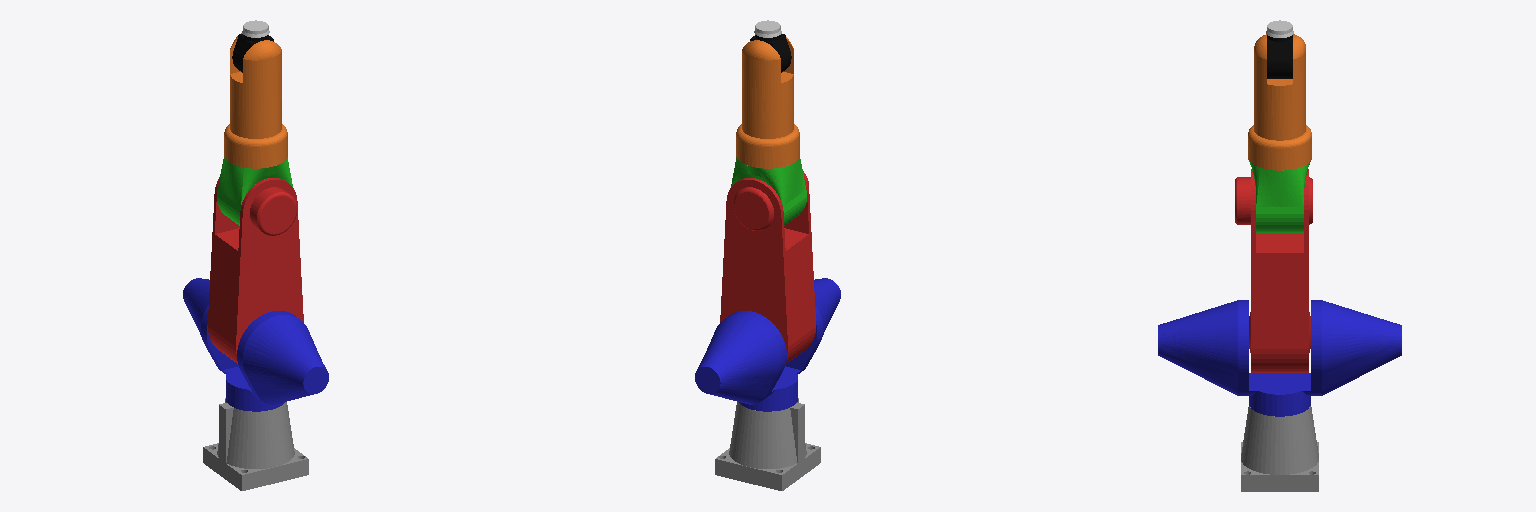
The robot description file, URDF, robot "crs_a465":
<?xml version='1.0' encoding='utf-8'?>
<robot name="crs_a465">

  <link name="world"/>

  <joint name="world_joint" type="fixed">
    <parent link="world" />
    <child link="base_link" />
    <origin xyz="0 0 0" />
  </joint>
  
  <link name="base_link">
    <visual>
      <geometry>
      <mesh filename="meshes/base_estatica.stl" scale="1 1 1"/>
      </geometry>
      <material name="grey"><color rgba="0.6 0.6 0.6 1" /></material>
      <origin xyz="0 0 0" rpy="1.57079632679 0 0"/>
    </visual>
    <collision>
      <geometry>
      <mesh filename="meshes/base_estatica.stl" scale="1 1 1"/>
      </geometry>
      <origin xyz="0 0 0" rpy="1.57079632679 0 0"/>
    </collision>
  </link>

  <joint name="joint1" type="revolute">
    <parent link="base_link" />
    <child link="link1" />
    <origin xyz="0 0 0" rpy="0 0 0"/>
    <axis xyz="0 0 1" /> 
    <limit lower="-3.054" upper="3.054" effort="50" velocity="2" />
  </joint>

  <link name="link1">
    <visual>
      <geometry>
        <mesh filename="meshes/codos_por_fuera.stl" scale="1 1 1"/>
      </geometry>
      <origin xyz="0 0 0.1651" rpy="1.57079632679 0 0"/>
      <material name="blue"><color rgba="0.2 0.2 0.8 1" /></material>
    </visual>
    <collision>
      <geometry>
        <mesh filename="meshes/codos_por_fuera.stl" scale="1 1 1"/>
      </geometry>
      <origin xyz="0 0 0.1651" rpy="1.57079632679 0 0"/>
    </collision>
  </link>

  <joint name="joint2" type="revolute">
    <parent link="link1" />
    <child link="link2" />
    <origin xyz="0 0 0.33" rpy="-1.57079632679 0 0"/>
    <axis xyz="0 0 -1" /> 
    <limit lower="-1.571" upper="1.571" effort="50" velocity="2" />
  </joint>

  <link name="link2">
    <visual>
      <geometry>
      <mesh filename="meshes/brazo1.stl" scale="1 1 1"/>
      </geometry>
      <material name="red"><color rgba="0.8 0.2 0.2 1" /></material>
      <origin xyz="0 0 -0.065" rpy="1.57079632679 0 -1.57079632679"/>
    </visual>
    <collision>
      <geometry>
      <mesh filename="meshes/brazo1.stl" scale="1 1 1"/>
      </geometry>
      <origin xyz="0 0 -0.065" rpy="1.57079632679 0 -1.57079632679"/>
    </collision>
  </link>

  <joint name="joint3" type="revolute">
    <parent link="link2" />
    <child link="link3" />
    <origin xyz="0 -0.305 0" />
    <axis xyz="0 0 -1" /> 
    <limit lower="-1.919" upper="1.919" effort="50" velocity="2" />
  </joint>

  <link name="link3">
    <visual>
      <geometry>
      <mesh filename="meshes/anexo_brazo2.stl" scale="1 1 1"/>
      </geometry>
      <origin xyz="0 0 -0.05" rpy="1.57079632679 0 -1.57079632679"/>
      <material name="green"><color rgba="0.2 0.8 0.2 1" /></material>
    </visual>
    <collision>
      <geometry>
      <mesh filename="meshes/anexo_brazo2.stl" scale="1 1 1"/>
      </geometry>
      <origin xyz="0 0 -0.05" rpy="1.57079632679 0 -1.57079632679"/>
    </collision>
  </link>

  <joint name="joint4" type="revolute">
    <parent link="link3" />
    <child link="link4" />
    <origin xyz="0 0 0" rpy="1.57079632679 0 0"/>
    <axis xyz="0 0 1" /> 
     <!-- todo find the issuse -->
    <limit lower="-3.142" upper="3.142" effort="30" velocity="3" />
  </joint>


  <link name="link4">
    <visual>
      <geometry>
      <mesh filename="meshes/brazo2_sin_herramienta.stl" scale="1 1 1"/>
      </geometry>
      <origin xyz="0 0 0.1016" rpy="1.57079632679 0 0"/>
      <material name="orange"><color rgba="0.9 0.5 0.2 1" /></material>
    </visual>
    <collision>
      <geometry>
      <mesh filename="meshes/brazo2_sin_herramienta.stl" scale="1 1 1"/>
      </geometry>
      <origin xyz="0 0 0.1016" rpy="1.57079632679 0 0"/>
    </collision>
  </link>

  <joint name="joint5" type="revolute">
    <parent link="link4" />
    <child link="tool_link" />
    <origin xyz="0 0 0.33" rpy="-1.57079632679 0 0"/>
    <axis xyz="0 0 -1" /> 
    <!-- todo find the issuse -->
    <limit lower="-1.833" upper="1.833" effort="20" velocity="3" />
  </joint>

  <link name="tool_link">
    <visual>
      <geometry>
      <mesh filename="meshes/union_herramienta.stl" scale="1 1 1"/>
      </geometry>
      <origin xyz="0 0 -0.026795" rpy="1.57079632679 0 -1.57079632679"/>
      <material name="black"><color rgba="0.1 0.1 0.1 1" /></material>
    </visual>
    <collision>
      <geometry>
      <mesh filename="meshes/union_herramienta.stl" scale="1 1 1"/>
      </geometry>
      <origin xyz="0 0 -0.026795" rpy="1.57079632679 0 -1.57079632679"/>
    </collision>
  </link>
  
  <joint name="joint6" type="revolute">
    <parent link="tool_link" />
    <child link="end_effector" />
    <origin xyz="0 0 0" rpy="1.57079632679 0 0"/>
    <axis xyz="0 0 1" /> 
     <!-- todo find the issuse -->
    <limit lower="-3.142" upper="3.142" effort="10" velocity="3" />
  </joint>
  
  <link name="end_effector">
    <visual>
      <geometry>
        <mesh filename="meshes/herramienta.stl" scale="1 1 1"/>
      </geometry>
      <origin xyz="0 0 0.0755" rpy="-1.57079632679 0 0"/>
      <material name="silver"><color rgba="0.8 0.8 0.8 1" /></material>
    </visual>
    <collision>
      <geometry>
        <mesh filename="meshes/herramienta.stl" scale="1 1 1"/>
      </geometry>
      <origin xyz="0 0 0.0755" rpy="-1.57079632679 0 0"/>
    </collision>
  </link> 

  <joint name="joint7" type="fixed">
    <parent link="end_effector" />
    <child link="hoop_adapter_link" />
    <origin xyz="0 0 0" rpy="0 0 0"/>
  </joint>
  
  <link name="hoop_adapter_link">
    <visual>
      <geometry>
        <mesh filename="meshes/CRS_adapter.stl" scale="0.001 0.001 0.001"/>
      </geometry>
      <origin xyz="0 0 0.0775" rpy="3.14159265359 0 1.57079632679"/>
      <material name="yellow"><color rgba="0.9 0.9 0.2 1" /></material>
    </visual>
    <collision>
      <geometry>
        <mesh filename="meshes/CRS_adapter.stl" scale="0.001 0.001 0.001"/>
      </geometry>
      <origin xyz="0 0 0.0775" rpy="3.14159265359 0 1.57079632679"/>
    </collision>
  </link>

  <joint name="joint8" type="fixed">
    <parent link="hoop_adapter_link" />
    <child link="hoop_link" />
    <origin xyz="0 0 0" rpy="0 0 0"/>
  </joint>

  <link name="hoop_link">
    <visual>
      <geometry>
        <mesh filename="meshes/Hoop.stl" scale="0.001 0.001 0.001"/>
      </geometry>
      <origin xyz="0 0 0.0855" rpy="3.14159265359 0 1.57079632679"/>
      <material name="purple"><color rgba="0.6 0.2 0.8 1" /></material>
    </visual>
    <collision>
      <geometry>
        <mesh filename="meshes/Hoop.stl" scale="0.001 0.001 0.001"/>
      </geometry>
      <origin xyz="0 0 0.0855" rpy="3.14159265359 0 1.57079632679"/>
    </collision>
  </link>

</robot>

--- What the picture shows (computed from the rendered views, not written in the file) ---
Views: 3 orthographic renders of the robot side by side, from view 1: azimuth 30°, elevation 25°; view 2: azimuth 150°, elevation 25°; view 3: azimuth 270°, elevation 25°.
Model crs_a465 with 10 links and 9 joints (6 revolute, 3 fixed), rooted at world, posed every joint at zero.
Links seen in each view (by area): view 1: link2, link1, link4, base_link, link3, tool_link; view 2: link2, link1, link4, base_link, link3, tool_link; view 3: link1, link2, link4, base_link, link3, tool_link.
Boxes of the visible links, x1,y1,x2,y2 form: link2: (208,177,303,363); link1: (183,278,328,411); link4: (224,33,287,168); base_link: (203,398,308,490); link3: (217,157,292,225); tool_link: (232,34,273,72); link2: (720,171,815,363); link1: (695,278,840,411); link4: (736,33,799,168); base_link: (715,398,820,490); link3: (731,157,806,225); tool_link: (750,34,791,72); link1: (1158,300,1401,416); link2: (1235,169,1312,372); link4: (1248,34,1311,170); base_link: (1241,406,1318,491); link3: (1249,161,1310,232); tool_link: (1267,35,1292,78).
Bounding box of the posed robot: 0.1682 × 0.5136 × 1.04 m (x, y, z).
7 mesh visuals loaded from 9 distinct referenced files (7 binary STL); not drawn: 2 (reference not matched to a file when rendering).
